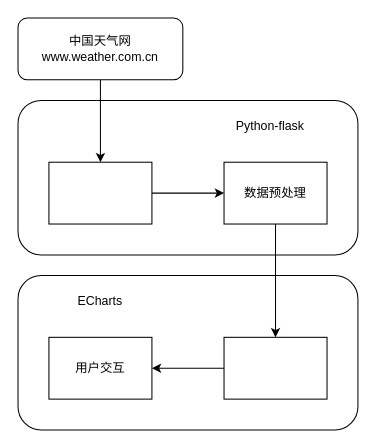
This 376x448 diagram has some shape labels left out. Each missing label, with the centre of its shape:
"可视化映射" belongs at point 275,367.
"数据采集" belongs at point 100,192.
